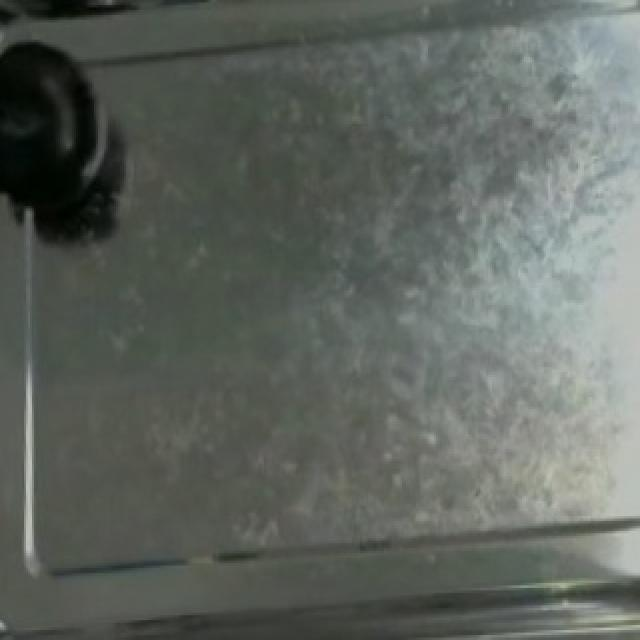Fruit: (0, 27, 108, 233)
